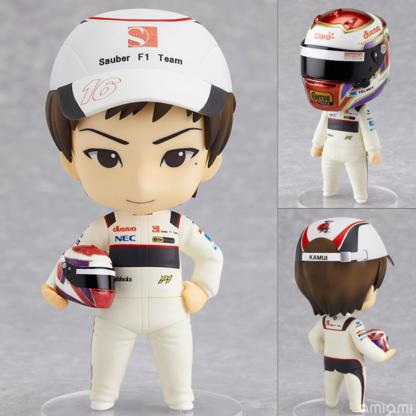Helmet: (44, 10, 240, 197), (306, 2, 394, 125), (294, 218, 394, 316)
